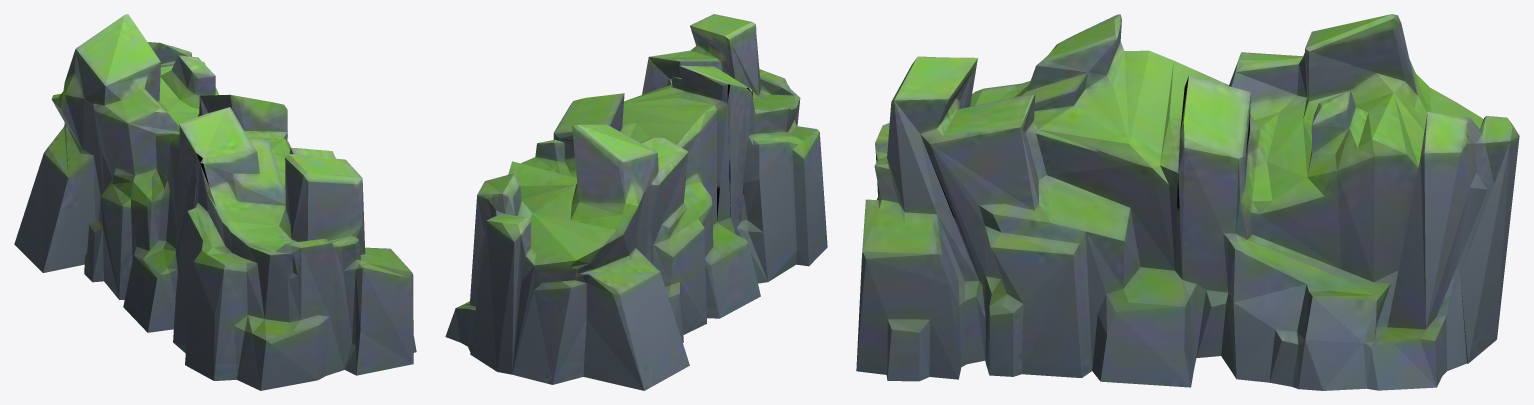
The model's file is cliff_wide_moss.glb.
The picture shows the model from 3 angles, left to right: view 1: azimuth 30°, elevation 25°; view 2: azimuth 150°, elevation 25°; view 3: azimuth 270°, elevation 25°; orthographic projection. The views are drawn at different scales.
Parts seen in each view (by area): view 1: cliff_wide_moss; view 2: cliff_wide_moss; view 3: cliff_wide_moss.
Part boxes in pixels (left/top/right/bottom): cliff_wide_moss: left=14, top=14, right=416, bottom=390; cliff_wide_moss: left=445, top=14, right=827, bottom=390; cliff_wide_moss: left=856, top=14, right=1519, bottom=390.
Size of the model in its own units: 5.29 by 5.29 by 10.58.
Materials: 1 (1 with a texture image).
